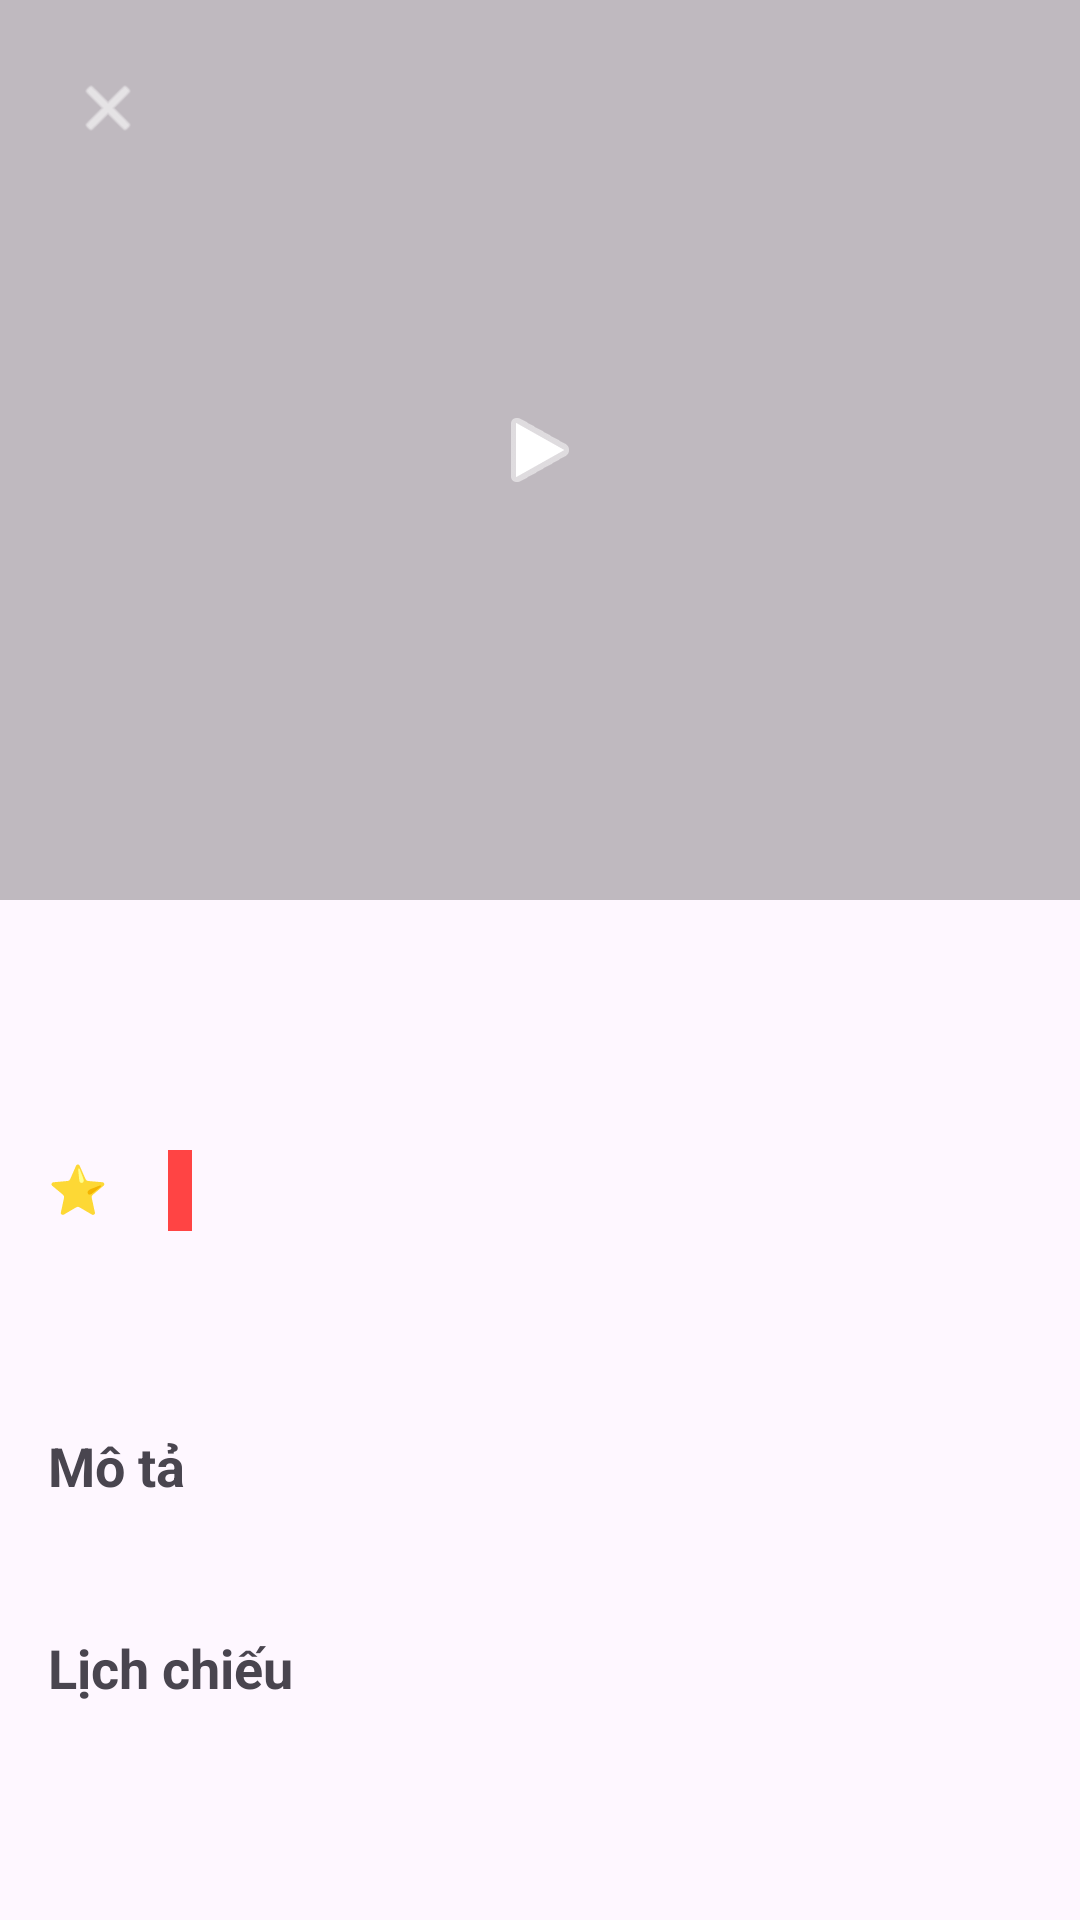

Point at icon controls on the screen. Image size 1080w x 1920h, points as (x=x, y=y).
close clear cancel: (x=108, y=108)
play: (x=540, y=450)
